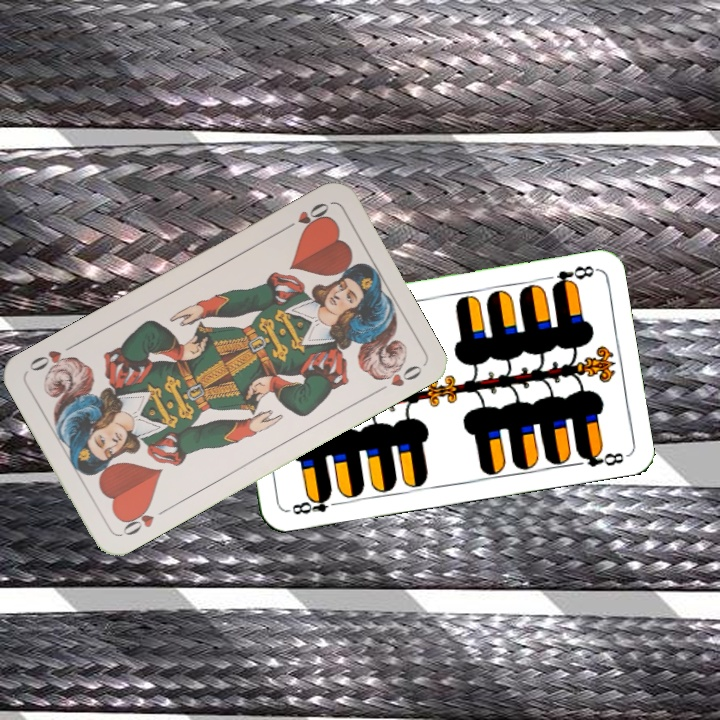E8: (288, 489, 343, 518), (547, 261, 598, 292)
HO: (116, 501, 171, 539), (278, 198, 332, 234)
